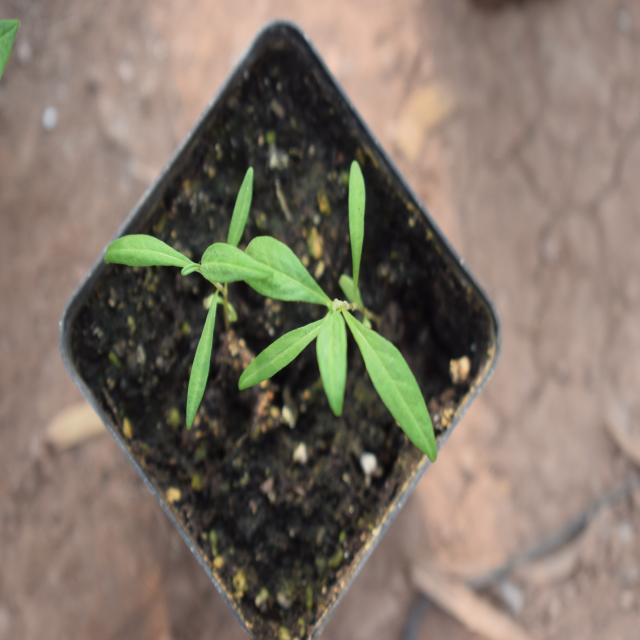white_smart_weed: (252, 165, 430, 435), (105, 180, 259, 424)
